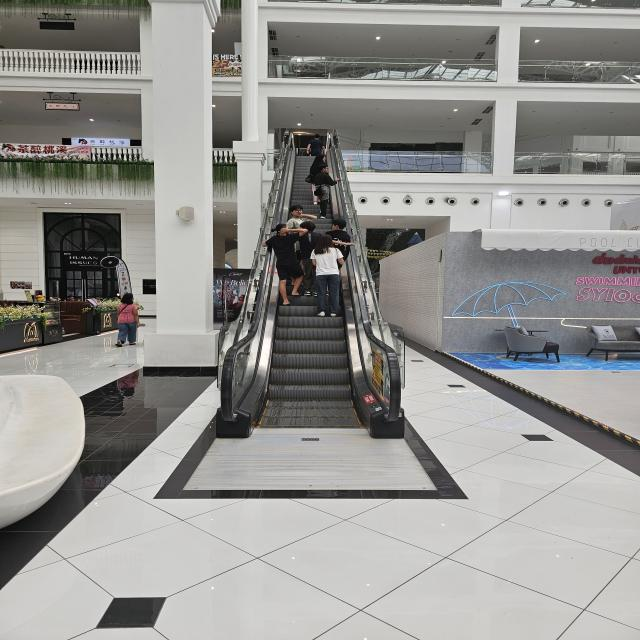escalator: (218, 270, 406, 429)
footpath: (114, 433, 638, 638)
obstacle: (0, 373, 86, 529), (502, 319, 561, 362), (586, 324, 640, 361)
person: (263, 223, 309, 306), (310, 234, 344, 317), (298, 221, 321, 296), (313, 164, 340, 218), (114, 293, 139, 347), (306, 154, 327, 205), (306, 134, 324, 156)
wall: (135, 225, 222, 378)
